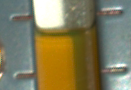border: (97, 65, 130, 75), (10, 70, 38, 81), (94, 8, 126, 17), (8, 13, 34, 24)
liquidlevel: (32, 20, 97, 45)
